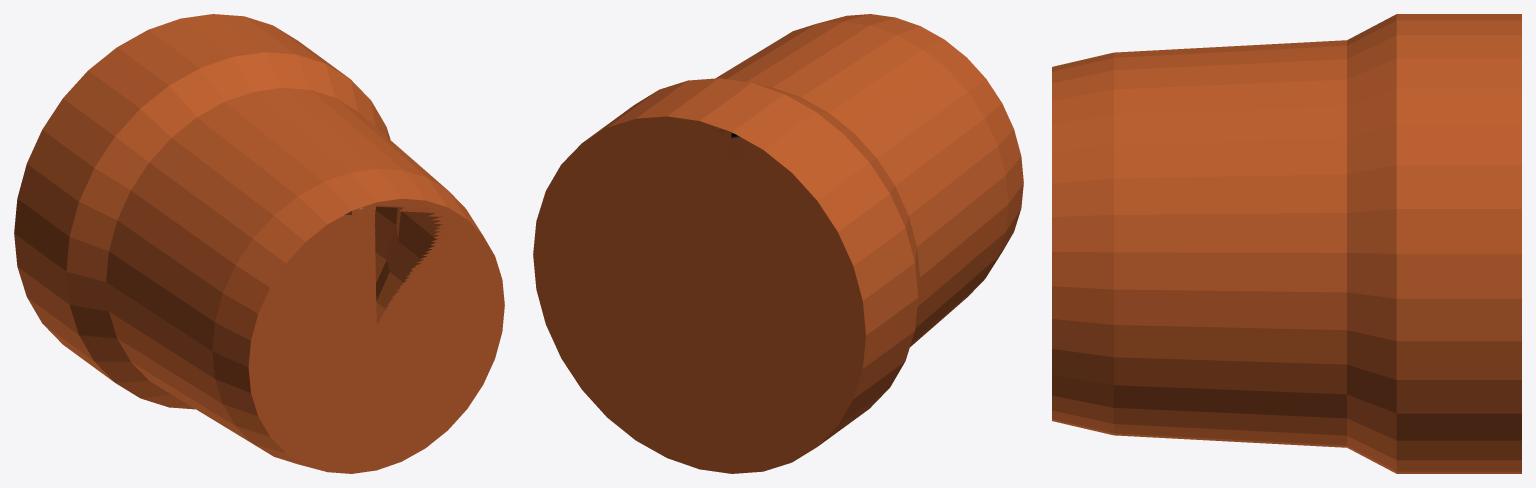
File: pot .fbx
The picture shows the model from 3 angles, left to right: view 1: azimuth 30°, elevation 25°; view 2: azimuth 150°, elevation 25°; view 3: azimuth 270°, elevation 25°; orthographic projection. The views are drawn at different scales.
Parts seen in each view (by area): view 1: Cylinder; view 2: Cylinder; view 3: Cylinder.
Part boxes in pixels (bbox=[...]): Cylinder: bbox=[14, 14, 504, 473]; Cylinder: bbox=[533, 14, 1023, 473]; Cylinder: bbox=[1052, 14, 1521, 473].
Size of the model in its own units: 2.26 by 2.26 by 2.3.
Materials: 1 (1 with a texture image).
